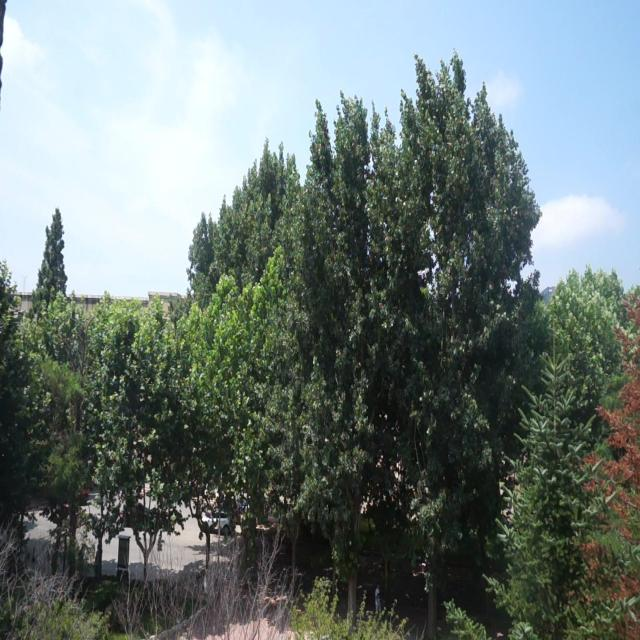drone: (415, 262, 431, 284)
